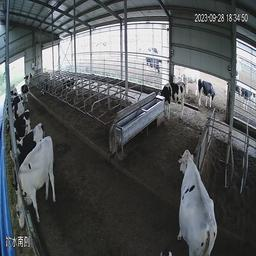cow: (169, 140, 223, 252), (9, 134, 56, 232), (157, 73, 186, 127), (2, 118, 43, 150), (196, 74, 218, 113), (6, 91, 28, 115)
